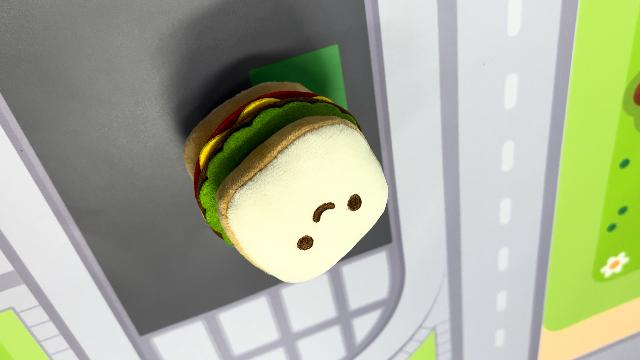sandwich: (180, 78, 392, 284)
